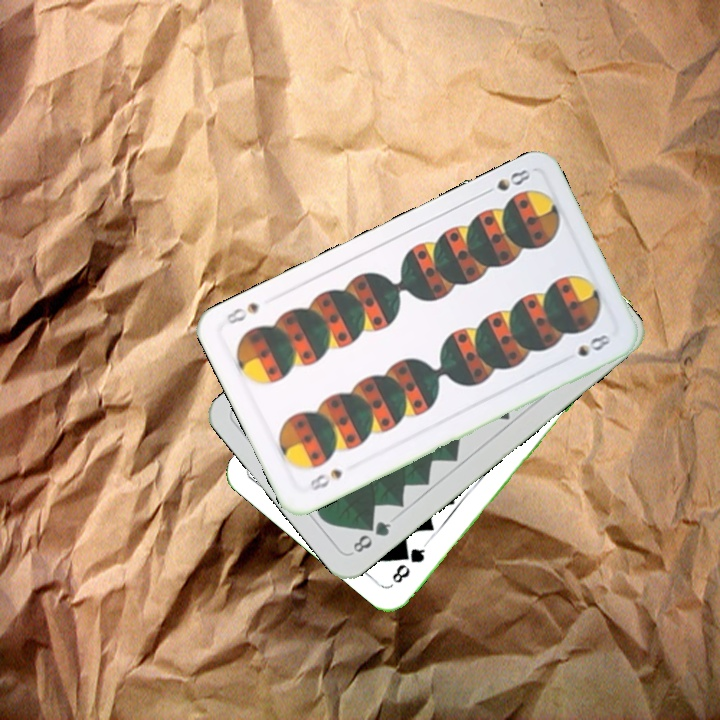G8: (387, 539, 430, 586), (347, 516, 394, 556)
S8: (478, 165, 534, 198), (303, 465, 345, 494)
